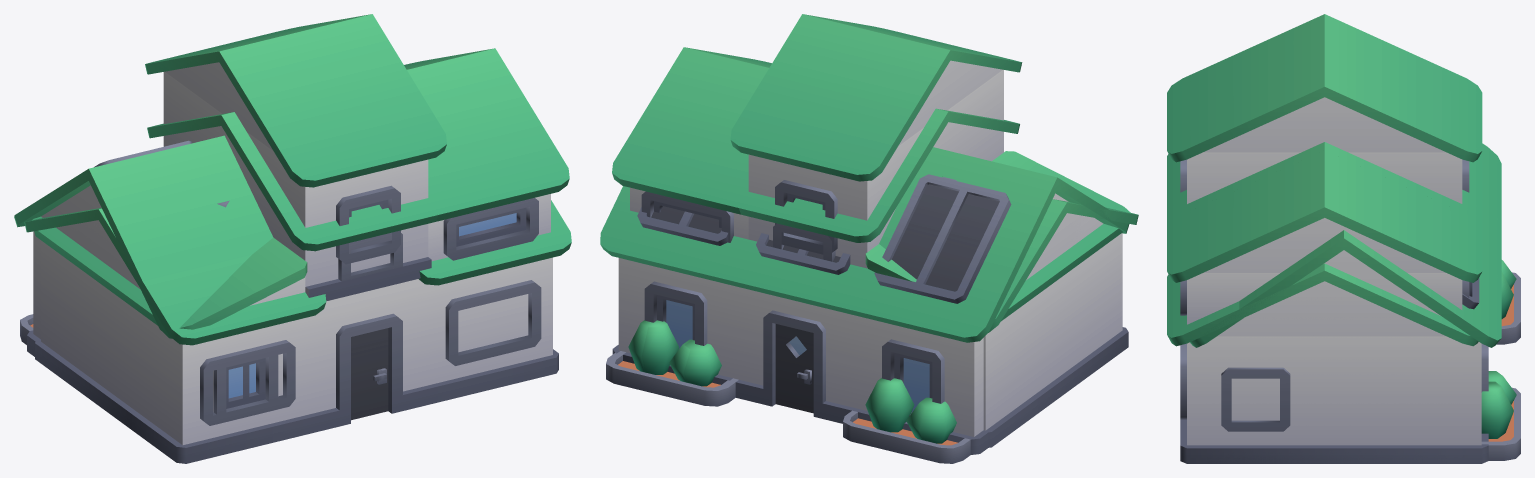
Rendered from suburban.glb.
3 views of the same model, side by side, from view 1: azimuth 30°, elevation 25°; view 2: azimuth 150°, elevation 25°; view 3: azimuth 270°, elevation 25° (orthographic). The views are drawn at different scales.
Parts seen in each view (by area): view 1: building-type-c~0, building-type-a~0, building-type-h~0; view 2: building-type-c~0, building-type-h~0, building-type-a~0; view 3: building-type-c~0, building-type-a~0, building-type-h~0.
Part boxes in pixels (x1=…): building-type-c~0: x1=32, y1=14, x2=569, y2=463; building-type-a~0: x1=20, y1=112, x2=571, y2=425; building-type-h~0: x1=14, y1=135, x2=273, y2=356; building-type-c~0: x1=608, y1=14, x2=1130, y2=447; building-type-h~0: x1=600, y1=147, x2=1129, y2=454; building-type-a~0: x1=606, y1=108, x2=1138, y2=463; building-type-c~0: x1=1167, y1=14, x2=1520, y2=447; building-type-a~0: x1=1167, y1=142, x2=1520, y2=463; building-type-h~0: x1=1190, y1=143, x2=1501, y2=463.
Bounding box in the file's own units: 1.3 × 1.03 × 1.03.
Materials: 1 (1 with a texture image).
